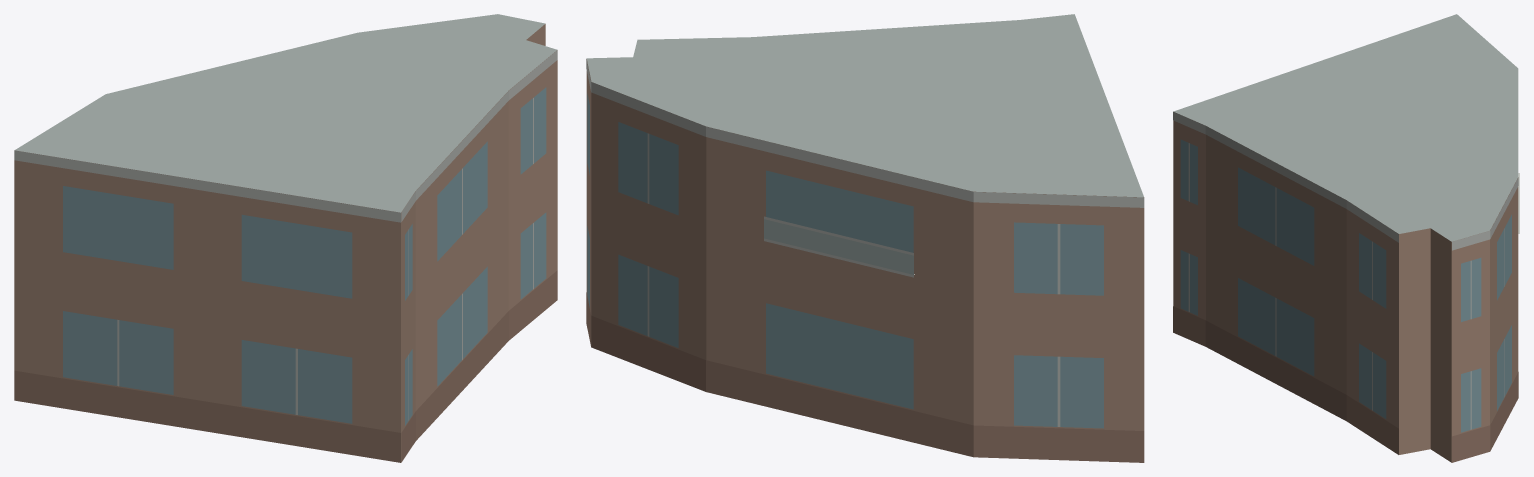
Rendered from survey-upis-32467494.glb.
3 renders of one model, left to right at view 1: azimuth 30°, elevation 25°; view 2: azimuth 150°, elevation 25°; view 3: azimuth 270°, elevation 25°, orthographic. The views are drawn at different scales.
Parts seen in each view (by area): view 1: survey-upis-32467494.tmp; view 2: survey-upis-32467494.tmp; view 3: survey-upis-32467494.tmp.
Part boxes in pixels (left/top/right/bottom): survey-upis-32467494.tmp: left=14, top=14, right=557, bottom=462; survey-upis-32467494.tmp: left=586, top=14, right=1144, bottom=462; survey-upis-32467494.tmp: left=1173, top=14, right=1519, bottom=462.
Bounding box in the file's own units: 13.49 × 6.1 × 8.68.
